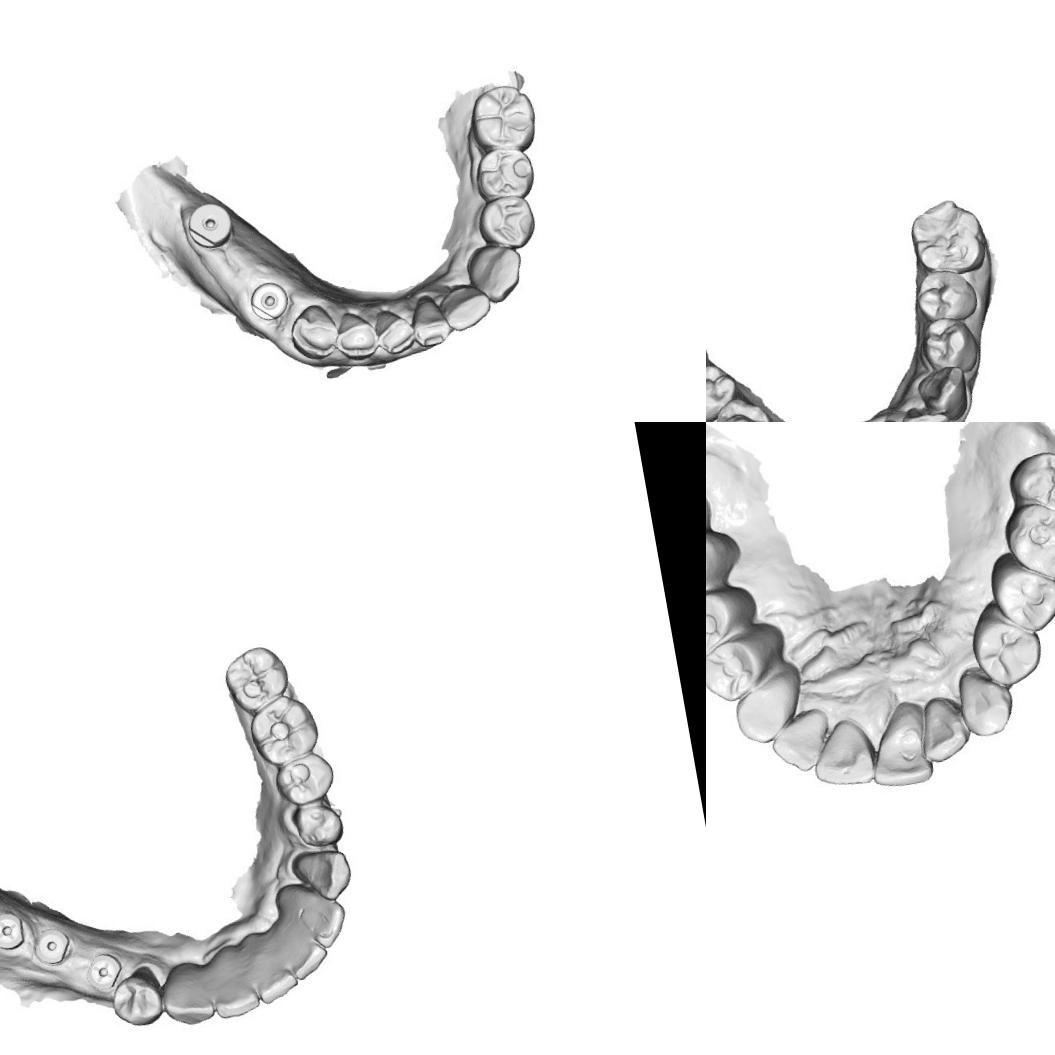canine: (724, 668, 808, 752), (949, 662, 1016, 742), (461, 237, 532, 309), (288, 842, 356, 904), (288, 298, 346, 368), (158, 968, 217, 1032), (912, 361, 973, 422)
implant: (182, 196, 242, 254), (246, 277, 293, 325), (32, 922, 76, 970)
implant_plus: (76, 948, 124, 991), (0, 902, 31, 959)
incisor: (863, 696, 938, 786), (764, 703, 837, 780), (802, 718, 878, 788), (914, 691, 976, 764), (293, 888, 350, 952), (251, 952, 303, 1008), (210, 960, 258, 1018), (332, 303, 382, 358), (281, 926, 330, 982), (440, 284, 494, 333), (373, 300, 417, 357), (410, 293, 453, 346), (899, 401, 949, 422)
molar: (902, 191, 992, 283), (999, 493, 1055, 585), (252, 691, 320, 764), (470, 82, 537, 154), (224, 642, 289, 712), (1006, 444, 1055, 519), (477, 140, 538, 200), (706, 530, 727, 609)
premolar: (958, 593, 1048, 690), (975, 543, 1055, 638), (910, 261, 982, 329), (917, 312, 984, 382), (706, 631, 766, 701), (106, 967, 169, 1032), (476, 188, 536, 248), (290, 794, 350, 854), (280, 750, 334, 800), (709, 388, 777, 422), (706, 590, 738, 659), (706, 362, 738, 422)
